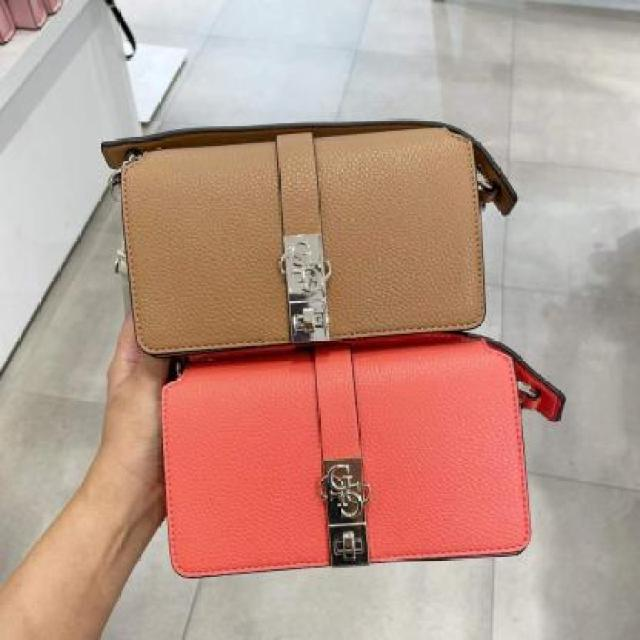Bag: (81, 328, 590, 602), (74, 99, 560, 381)
